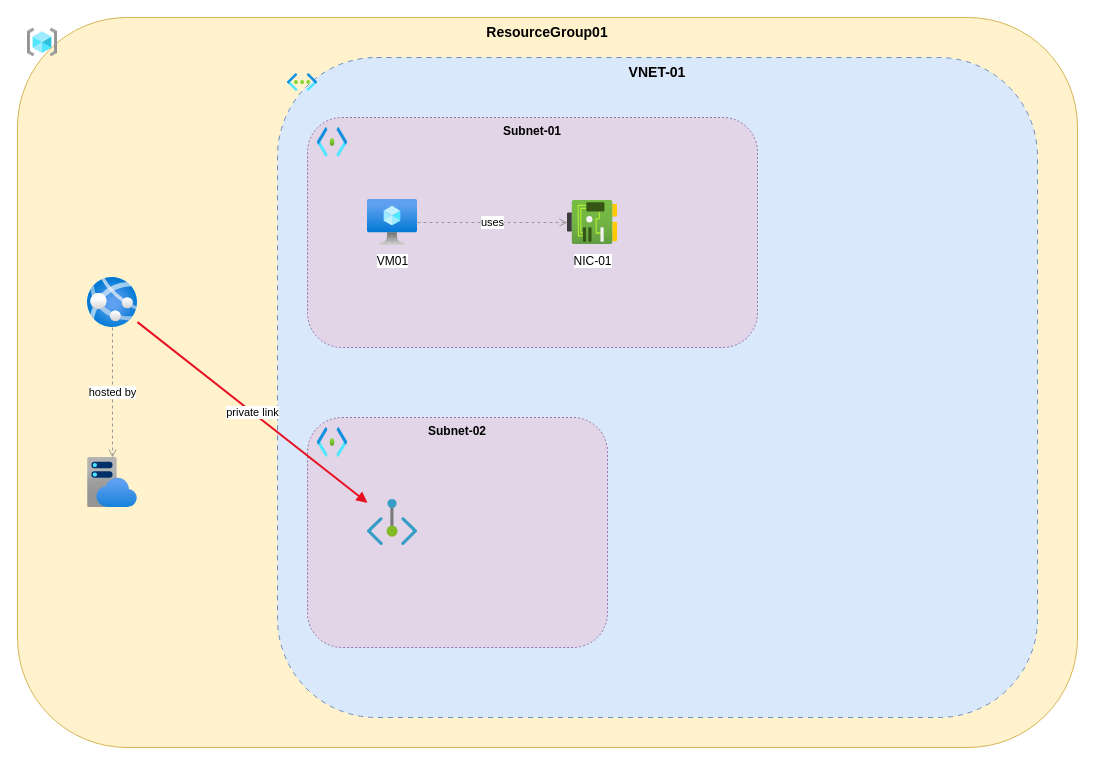
This 1095x765 diagram has some shape labels left out. The shapes that lost their labels are listed below. From the top down, each one's box as (x1, y1, x2, y2) in pixels, then its label:
(87, 277, 137, 327): webapp
(87, 457, 137, 507): App-Service-Plan
(367, 497, 417, 547): pe-webapp
